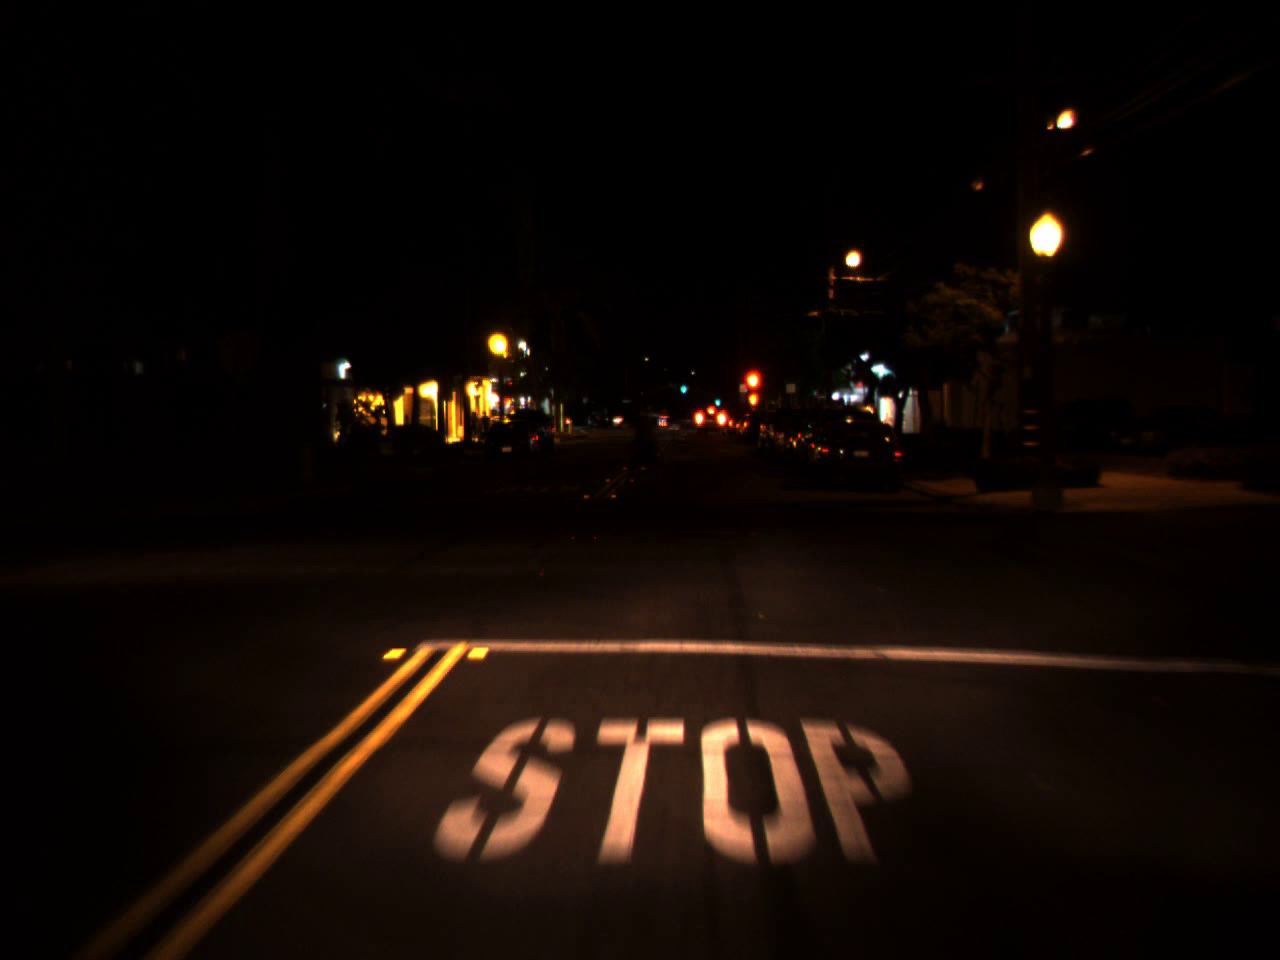go: (678, 377, 687, 395), (713, 394, 720, 406)
stop: (740, 366, 764, 417)
